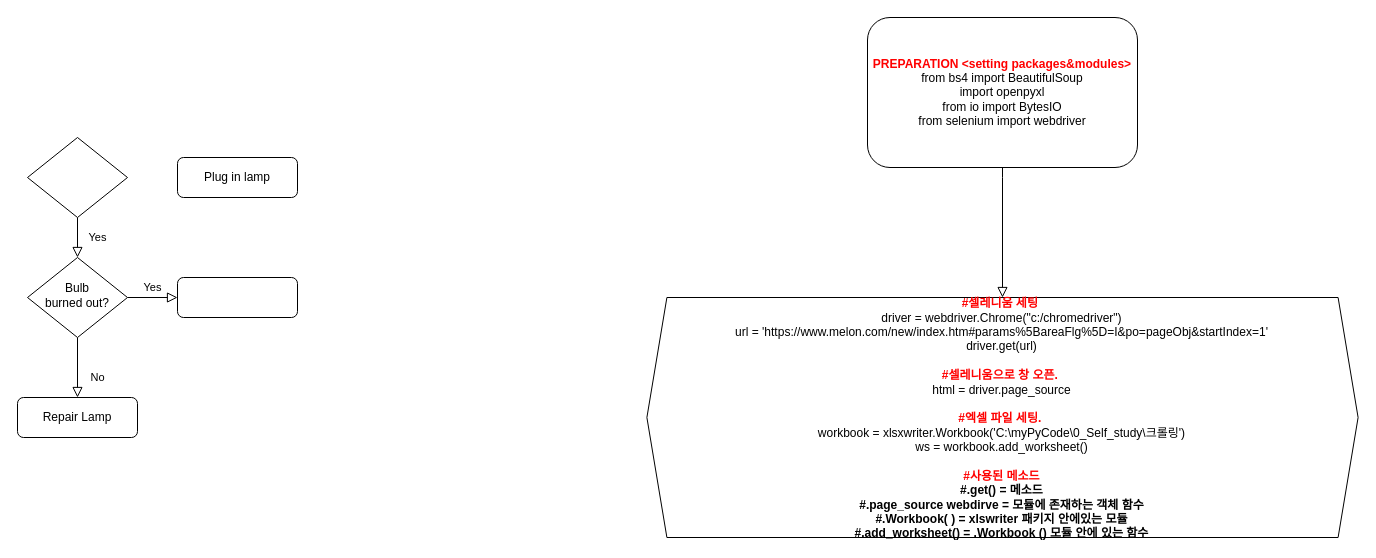
Some shapes in this 1376 by 558 pixel diagram are drawn without their labels. Here are the shapes that lost their labels. From the top down, the centre of each, then its label:
At pixel 77 177: "Lamp plugged in?".
At pixel 237 297: "Replace Bulb".
